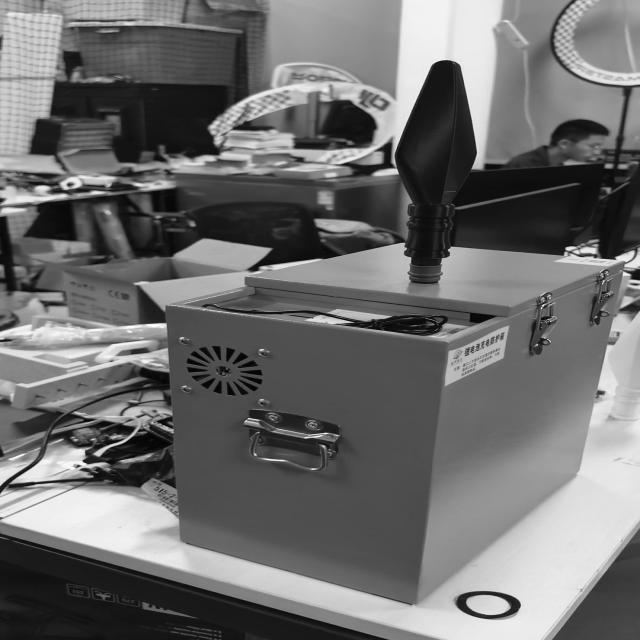base: (406, 264, 444, 284)
